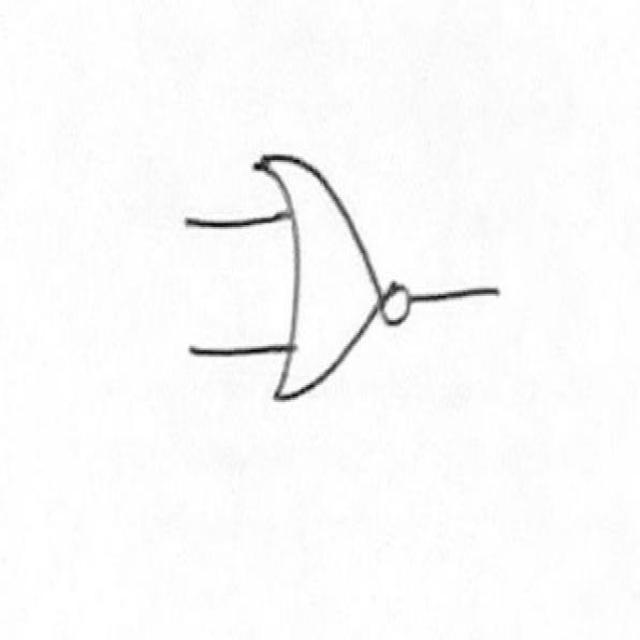NOR: (236, 122, 434, 414)
